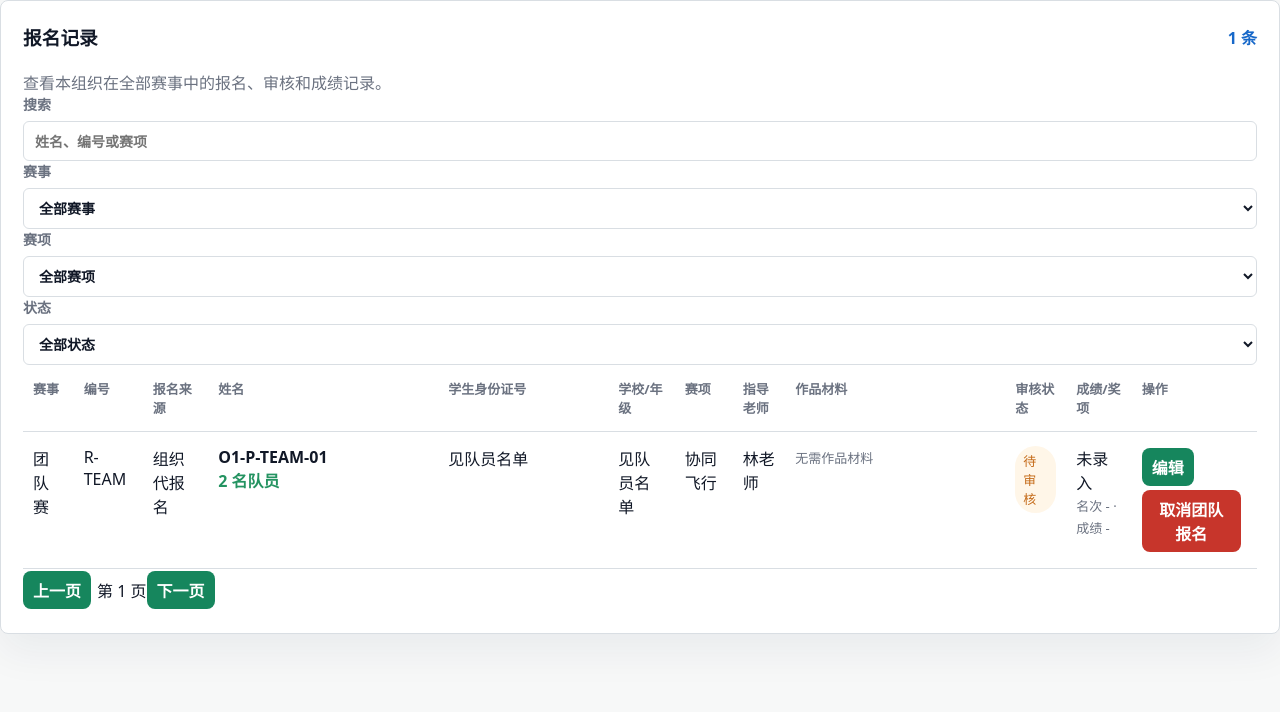
Test: App session integration › shows one expandable complete team roster in the owning organization records
Expected: the text "110105201401021234" is not shown
Click the button "2 名队员" at (249, 480), box x1=218 y1=468 x2=280 y2=492
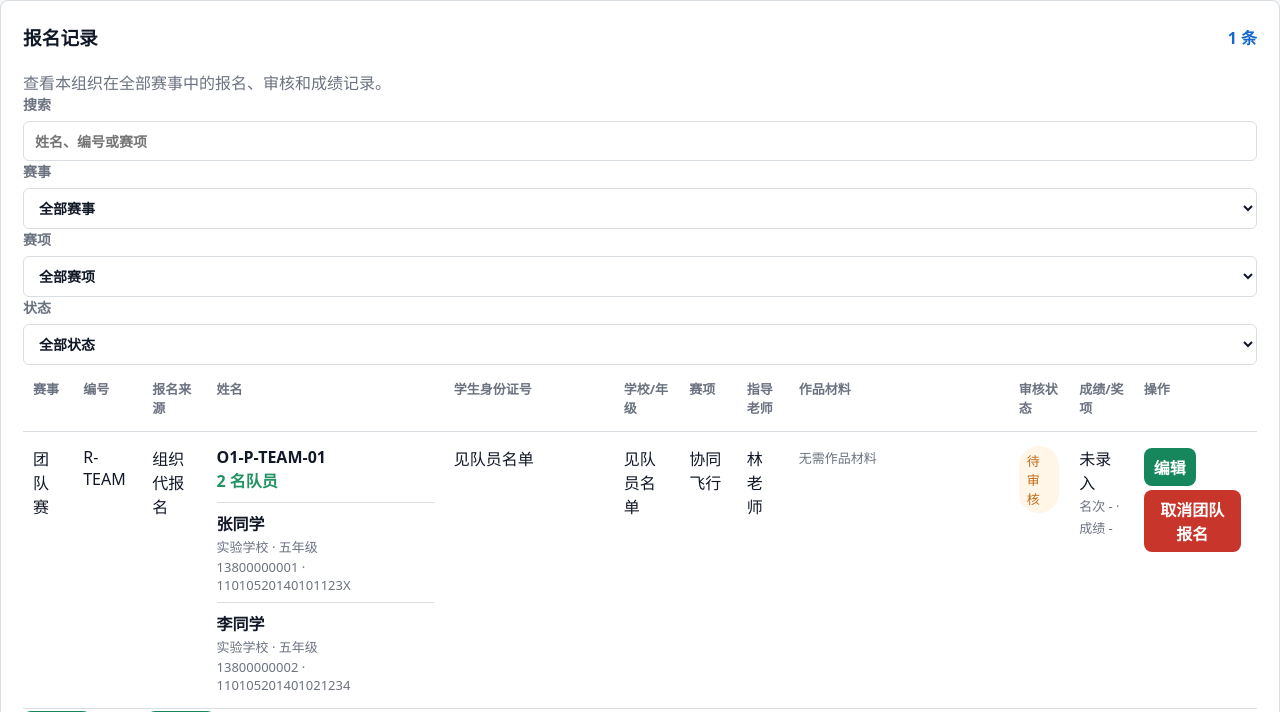
Now the list shows "张同学", box x1=216 y1=513 x2=264 y2=535
Now the list shows "李同学", box x1=216 y1=613 x2=264 y2=635
Now the list shows "13800000002", box x1=216 y1=658 x2=350 y2=694
